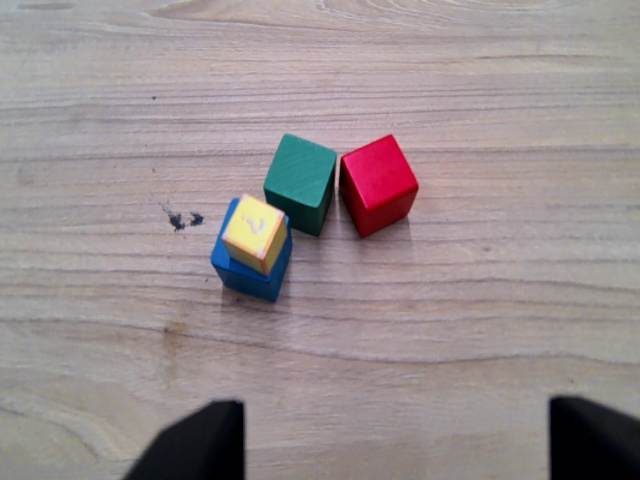lucky: (215, 187, 290, 280)
